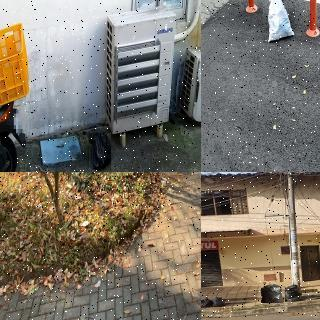Garbage: (262, 0, 295, 45), (89, 133, 111, 172), (261, 282, 285, 303), (284, 285, 303, 303), (212, 296, 227, 307), (201, 296, 213, 308)
